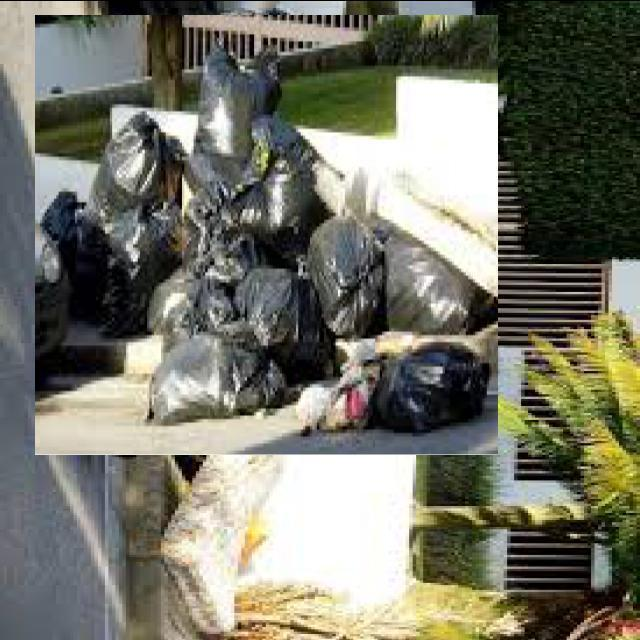Trashbag: (142, 329, 285, 434), (362, 340, 488, 436), (311, 208, 392, 340), (194, 47, 283, 166), (178, 186, 250, 323), (384, 238, 472, 349), (106, 202, 165, 344), (93, 106, 175, 205), (244, 160, 322, 242), (66, 218, 116, 322), (240, 266, 302, 338), (42, 183, 79, 240)
